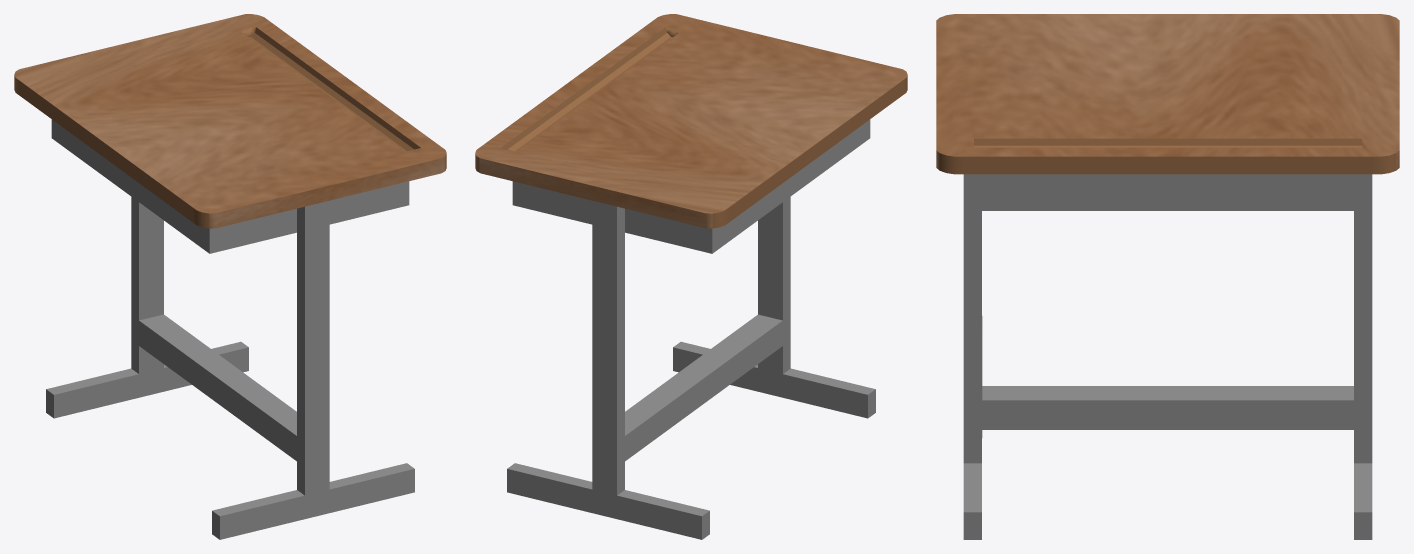
File: Table.fbx
3 views of the same model, side by side, from view 1: azimuth 30°, elevation 25°; view 2: azimuth 150°, elevation 25°; view 3: azimuth 270°, elevation 25° (orthographic). The views are drawn at different scales.
Parts seen in each view (by area): view 1: Table; view 2: Table; view 3: Table.
Boxes of the visible parts, bbox=[...] form: Table: bbox=[14, 14, 446, 539]; Table: bbox=[475, 14, 907, 539]; Table: bbox=[936, 14, 1399, 539].
Bounding box in the file's own units: 0.0208 × 0.0271 × 0.0285.
